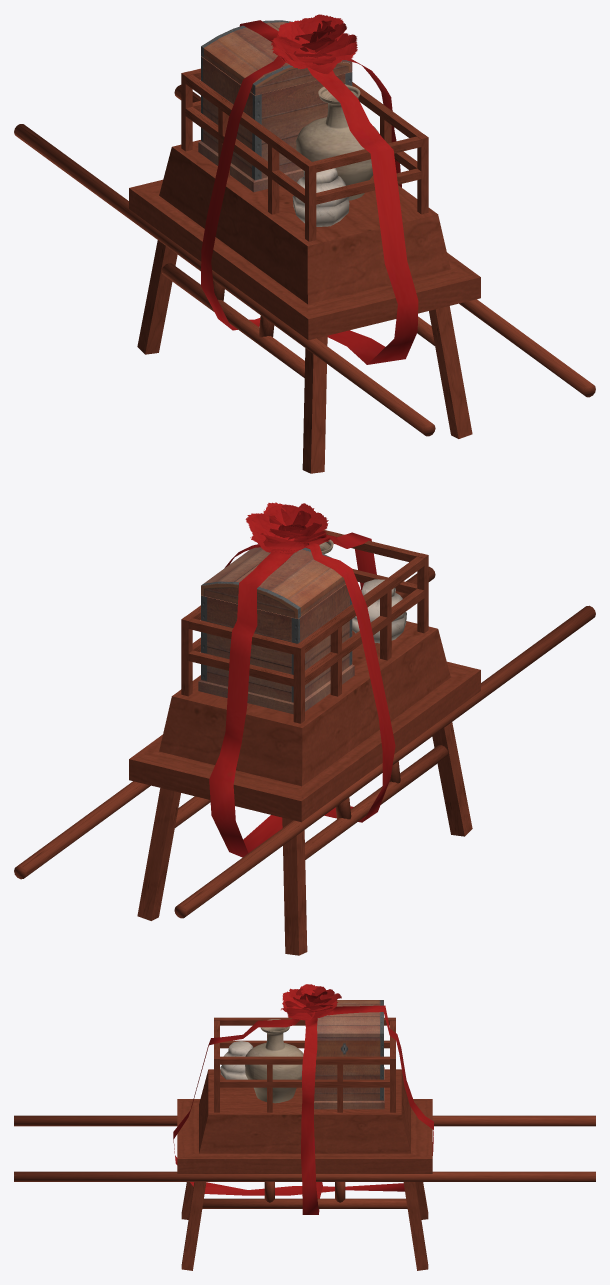
File: FC_N592_B_Dowry_D.fbx
The picture shows the model from 3 angles, top to bottom: view 1: azimuth 30°, elevation 25°; view 2: azimuth 150°, elevation 25°; view 3: azimuth 270°, elevation 25°; orthographic projection. The views are drawn at different scales.
Parts seen in each view (by area): view 1: Dowry_D; view 2: Dowry_D; view 3: Dowry_D.
Part boxes in pixels (x1,y1,x2,y2): Dowry_D: [14, 14, 595, 473]; Dowry_D: [14, 502, 595, 955]; Dowry_D: [14, 984, 595, 1270].
Bounding box in the file's own units: 70.95 × 130 × 265.
